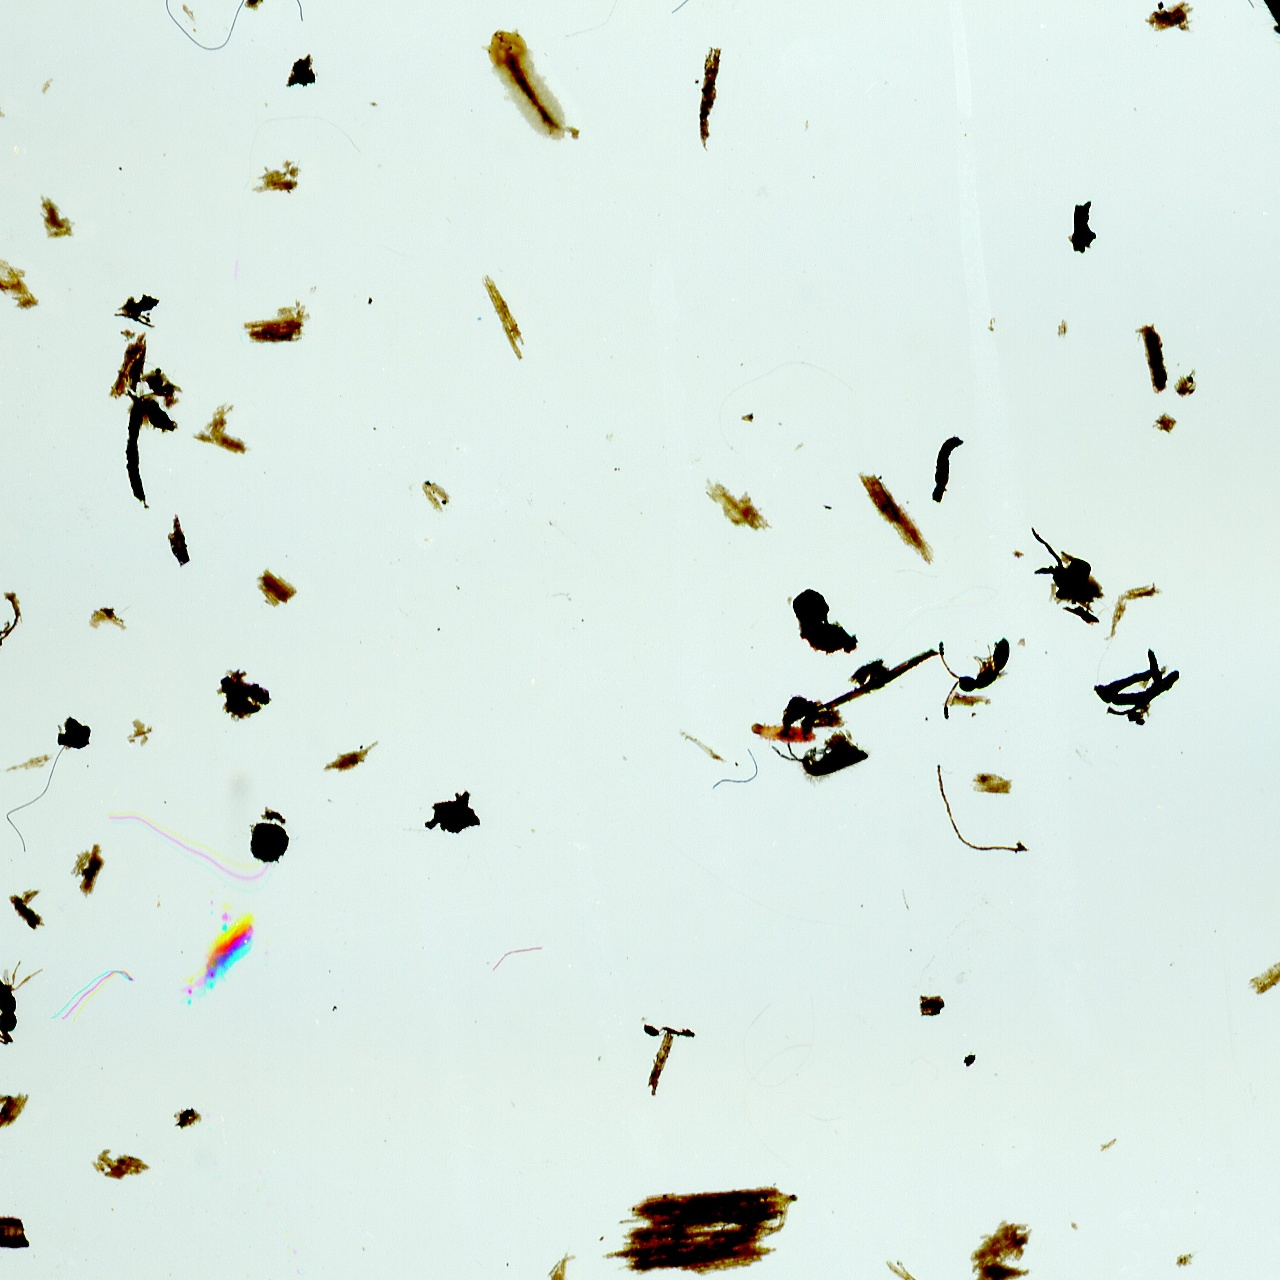arthropod: (465, 11, 586, 164), (1174, 0, 1280, 138), (162, 901, 278, 1020), (0, 933, 68, 1054), (936, 634, 1012, 720), (748, 718, 818, 747)
